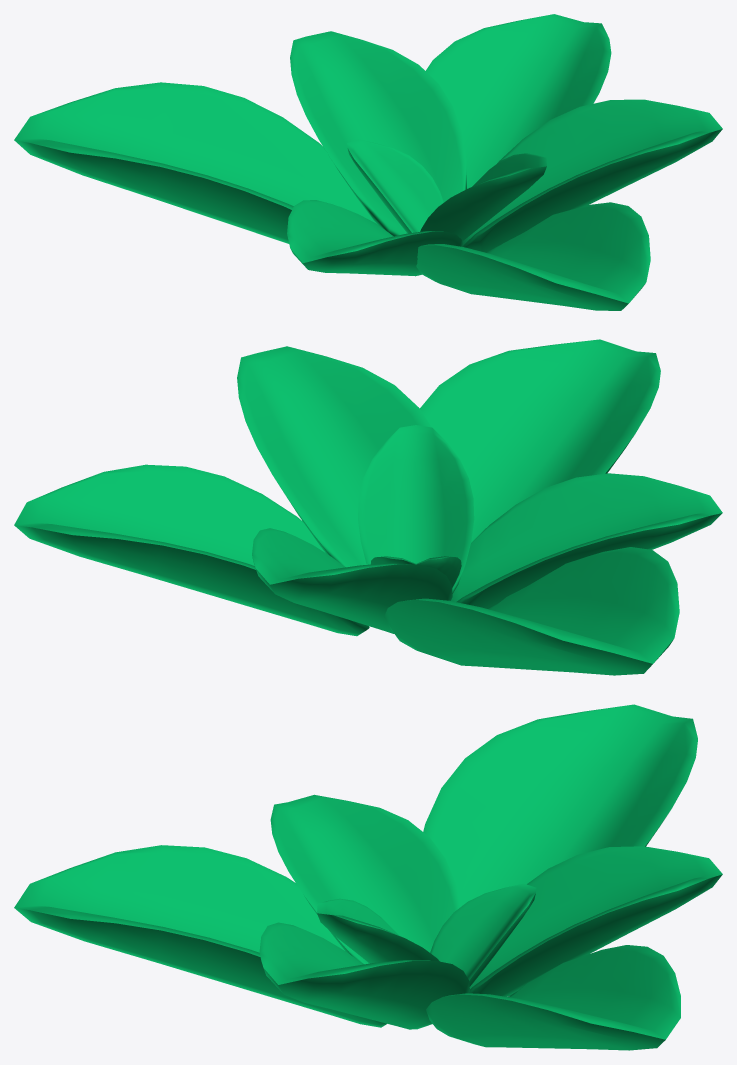
File: Farm_3_Plant_2.glb
3 views of the same model, one above another, from view 1: azimuth 30°, elevation 25°; view 2: azimuth 150°, elevation 25°; view 3: azimuth 270°, elevation 25° (orthographic). The views are drawn at different scales.
Parts seen in each view (by area): view 1: Farm_3_Plant_2; view 2: Farm_3_Plant_2; view 3: Farm_3_Plant_2.
Part boxes in pixels (x1,y1,x2,y2): Farm_3_Plant_2: (14,14,722,310); Farm_3_Plant_2: (14,339,722,675); Farm_3_Plant_2: (14,704,722,1050).
Size of the model in its own units: 0.419 by 0.1054 by 0.4102.
1 material, 1 textured.
